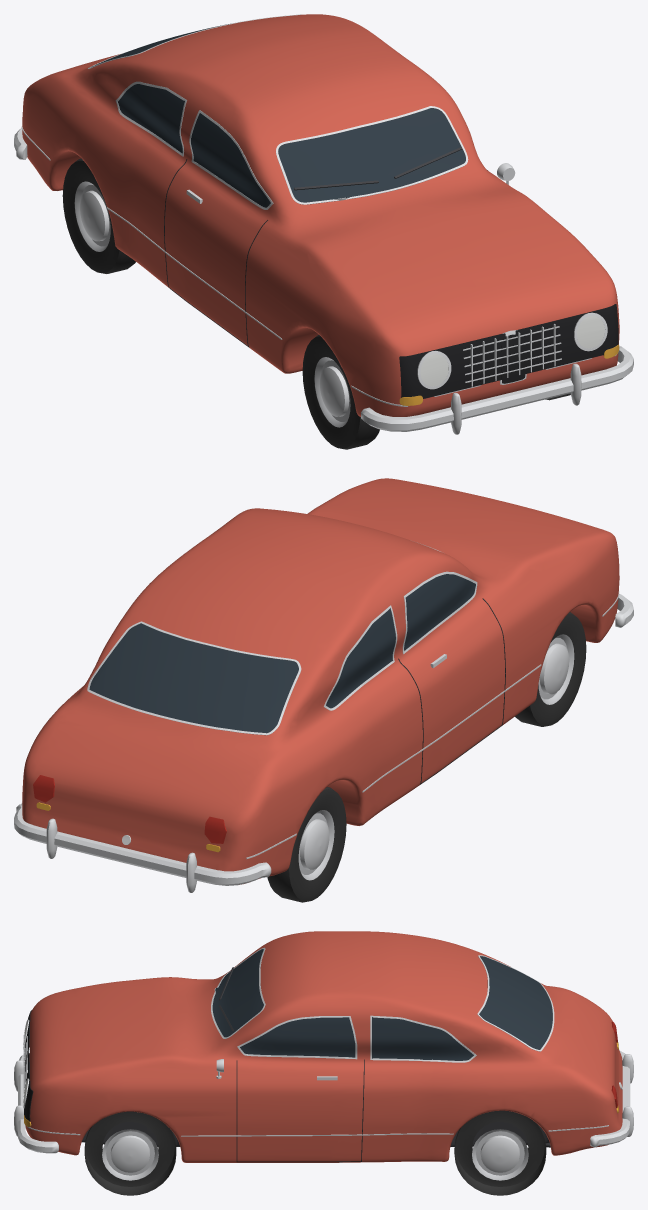
The model's file is saab96.glb.
The picture shows the model from 3 angles, top to bottom: view 1: azimuth 30°, elevation 25°; view 2: azimuth 150°, elevation 25°; view 3: azimuth 270°, elevation 25°; orthographic projection. The views are drawn at different scales.
Parts seen in each view (by area): view 1: paint, trim, glass, wheel_fr, wheel_rr, headlights; view 2: paint, glass, trim, wheel_rr, wheel_fr, taillights; view 3: paint, glass, trim, wheel_rl, wheel_fl.
Part boxes in pixels (x1,y1,x2,y2): paint: [22, 14, 619, 416]; trim: [14, 14, 633, 434]; glass: [91, 24, 465, 207]; wheel_fr: [302, 335, 379, 449]; wheel_rr: [62, 158, 135, 273]; headlights: [420, 316, 604, 386]; paint: [22, 478, 619, 884]; glass: [89, 574, 475, 733]; trim: [14, 542, 633, 892]; wheel_rr: [267, 787, 346, 902]; wheel_fr: [515, 612, 586, 726]; taillights: [33, 775, 226, 843]; paint: [25, 931, 622, 1162]; glass: [212, 949, 552, 1060]; trim: [14, 947, 633, 1162]; wheel_rl: [454, 1110, 546, 1195]; wheel_fl: [84, 1111, 176, 1195].
Size of the model in its own units: 1.58 by 1.47 by 4.19.
